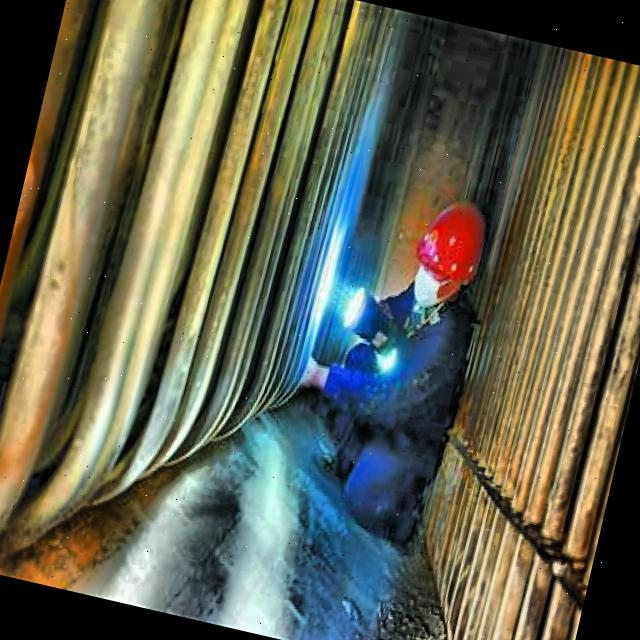helmet: (403, 190, 496, 317)
